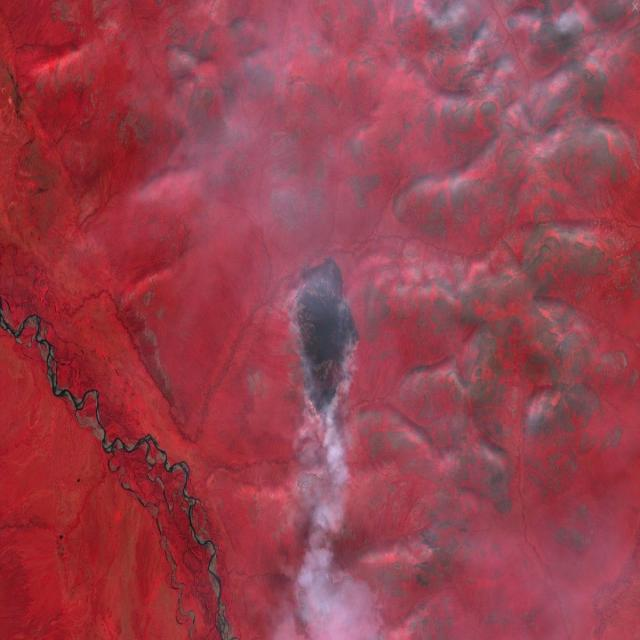fire: (289, 247, 370, 430)
